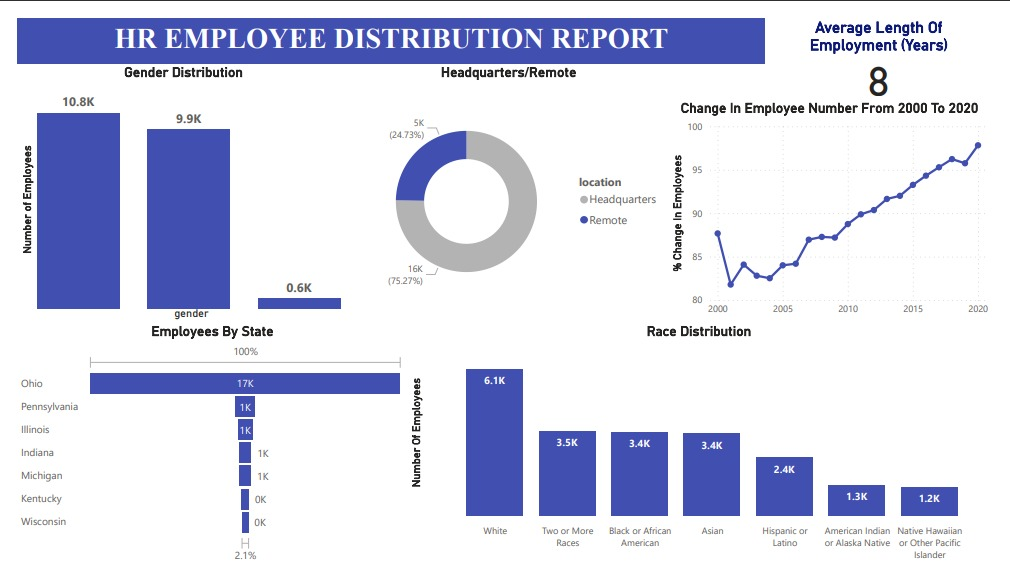

What the dashboard file says about the page in this screenshot:
{"tool":"powerbi","page":{"name":"Page 1","canvas":[1280,720],"ordinal":0},"visuals":[{"type":"textbox","box":[0,0,982.9,60],"z":0},{"type":"card","title":"Average Length Of Employment (Years)","fields":{"Values":["Sum(avg_length_employment.avg_length_employment)"]},"box":[982.9,0,297.1,107.1],"z":1000},{"type":"columnChart","title":"Gender Distribution","fields":{"Category":["gender distribution.gender"],"Y":["Sum(gender distribution.count)","Sum(gender distribution.count)"]},"box":[0,60,437.1,340],"z":2000},{"type":"donutChart","title":"Headquarters/Remote","fields":{"Y":["Sum(Location.count)"],"Category":["Location.location"]},"box":[437.1,60,417.1,340],"z":3000},{"type":"lineChart","title":"Change In Employee Number From 2000 To 2020","fields":{"Category":["employee_change.Year"],"Y":["Sum(employee_change.net_change_percent)"]},"box":[854.3,107.1,425.7,292.9],"z":4000},{"type":"clusteredColumnChart","title":"Race Distribution","fields":{"Category":["race distribution.race"],"Y":["Sum(race distribution.count)"]},"box":[511.4,400,768.6,320],"z":5000},{"type":"funnel","title":"Employees By State","fields":{"Y":["Sum(State_distribution.count)"],"Category":["State_distribution.location_state"]},"box":[0,400,513,320],"z":6000}]}

Visuals, with their boxes in screenshot pixels (x1, y1, x2, y2), scaled from the page's 1280x720 canvas onto the 1010x585 screenshot:
textbox: x1=0, y1=0, x2=776, y2=49
"Average Length Of Employment (Years)" card: x1=776, y1=0, x2=1009, y2=87
"Gender Distribution" columnChart: x1=0, y1=49, x2=345, y2=325
"Headquarters/Remote" donutChart: x1=345, y1=49, x2=674, y2=325
"Change In Employee Number From 2000 To 2020" lineChart: x1=674, y1=87, x2=1009, y2=325
"Race Distribution" clusteredColumnChart: x1=404, y1=325, x2=1009, y2=584
"Employees By State" funnel: x1=0, y1=325, x2=405, y2=584
